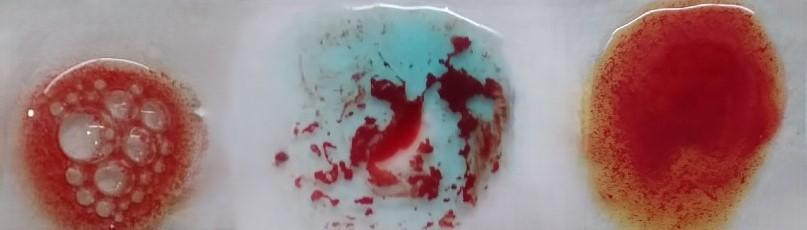A: (307, 8, 509, 230)
B: (603, 8, 777, 230)
D: (29, 54, 202, 230)
